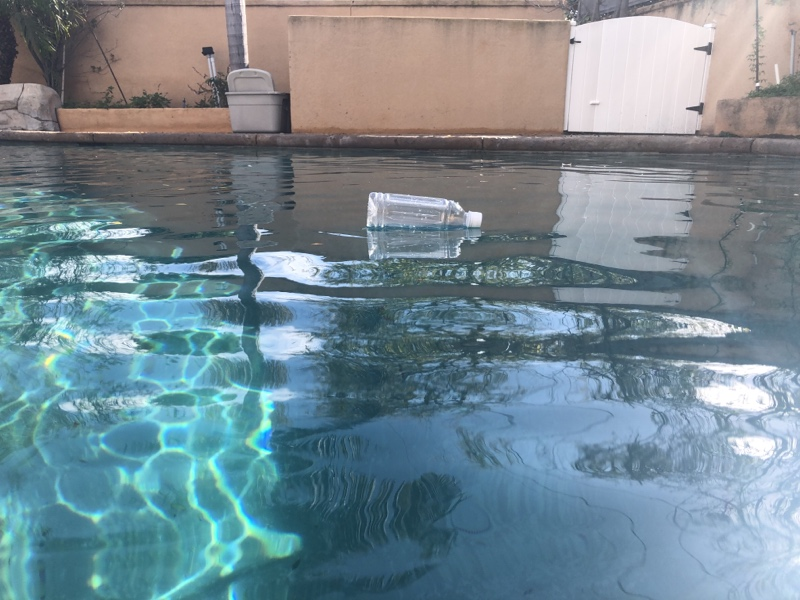Plastic Bottle: (364, 187, 485, 235)
